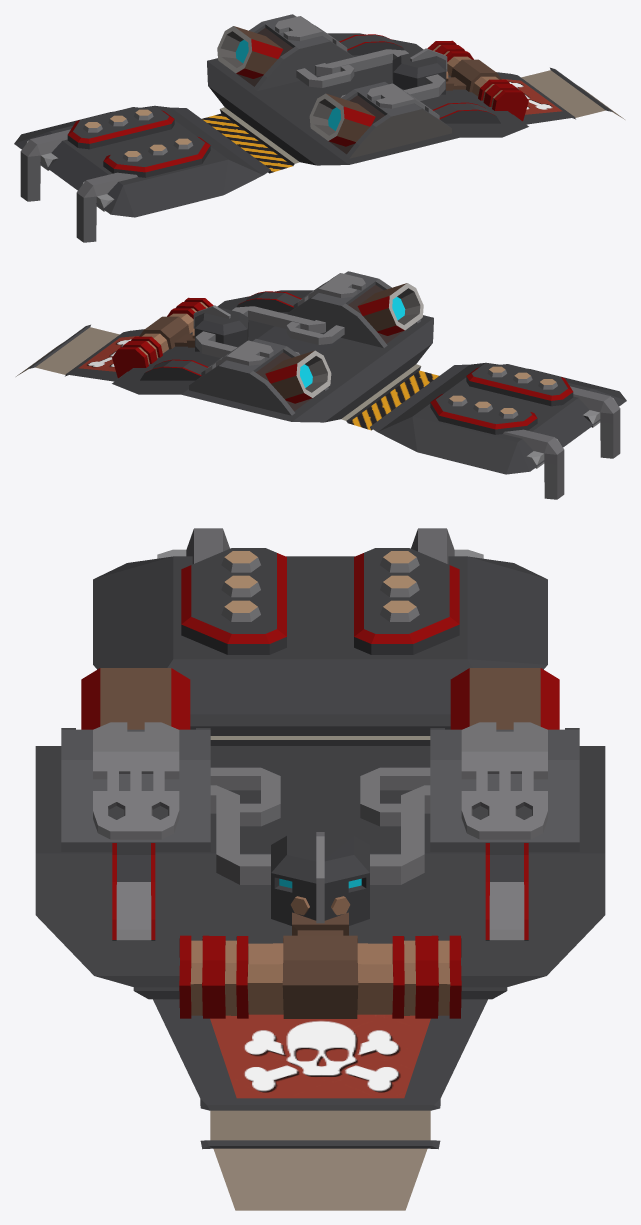
The model's file is Supernova_ship_hood.fbx.
3 views of the same model, one above another, from view 1: azimuth 30°, elevation 25°; view 2: azimuth 150°, elevation 25°; view 3: azimuth 270°, elevation 25° (orthographic). The views are drawn at different scales.
Parts seen in each view (by area): view 1: Roof; view 2: Roof; view 3: Roof.
Part boxes in pixels (x1=…): Roof: x1=14, y1=14, x2=624, y2=242; Roof: x1=16, y1=271, x2=626, y2=499; Roof: x1=35, y1=528, x2=605, y2=1210.
Bounding box in the file's own units: 5797 × 1167 × 2582.
